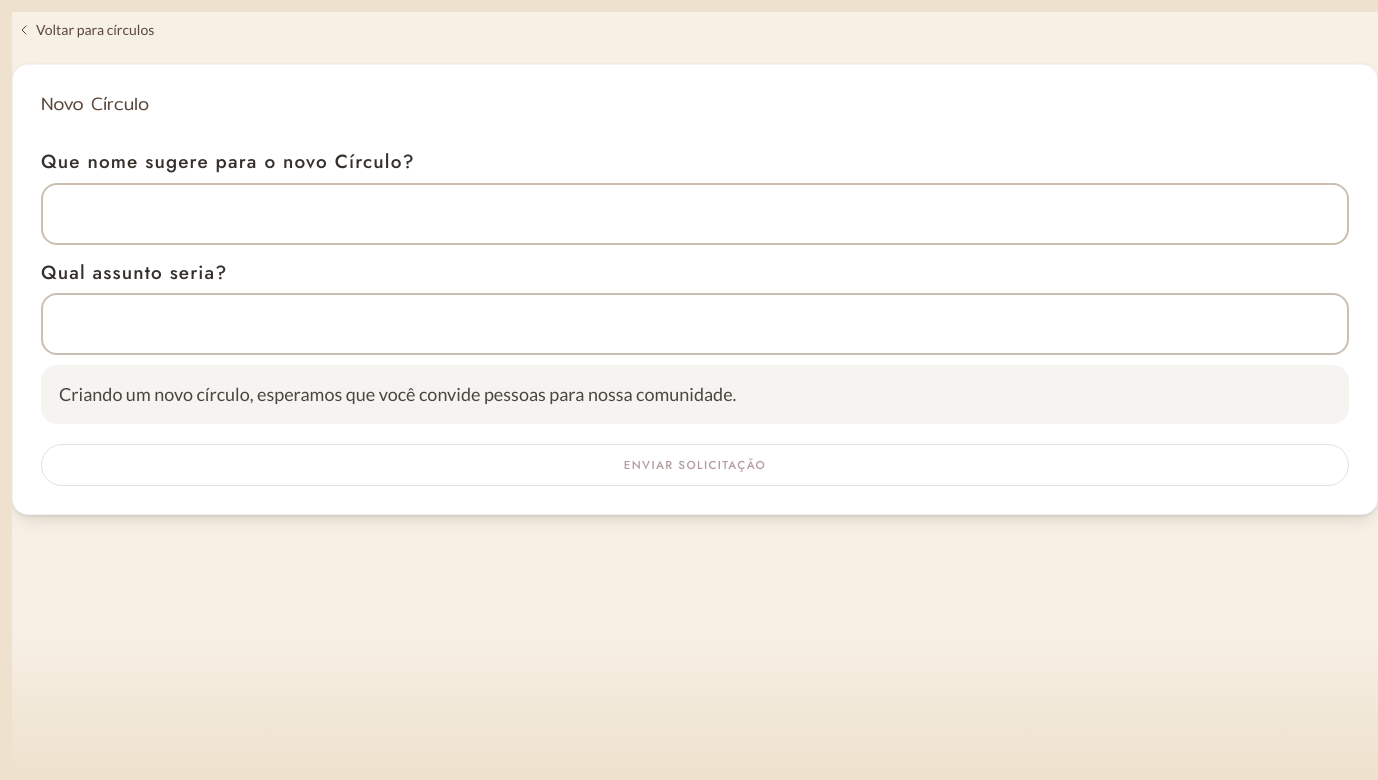
it: CircleRequestForm › mostra o erro do servidor sem travar o formulário
The image size is (1378, 780).
In the field labelled "Que nome sugere para o novo Círculo?": (695, 214) top-left (41, 182), bottom-right (1349, 244), type "Clube do livro"
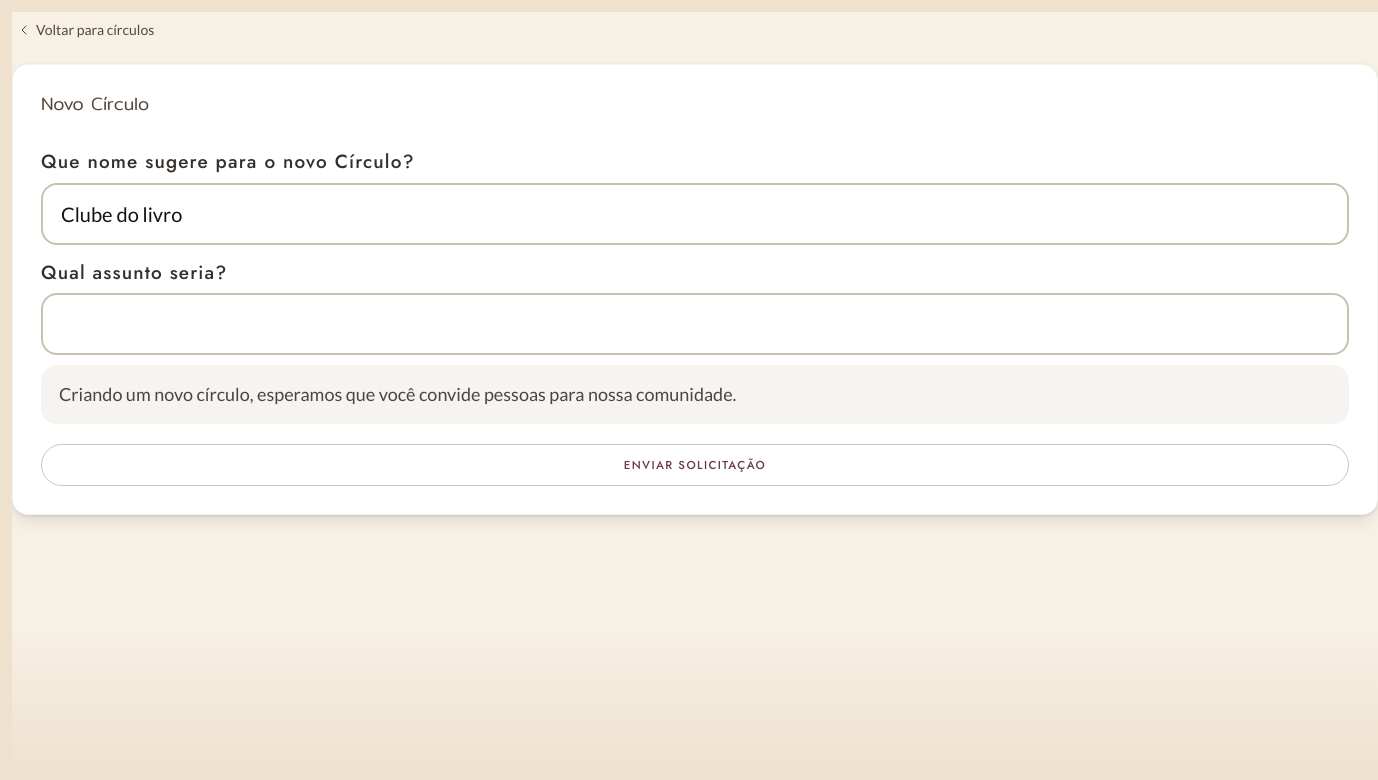
Click the button "Enviar solicitação": click(695, 465) top-left (41, 444), bottom-right (1349, 486)
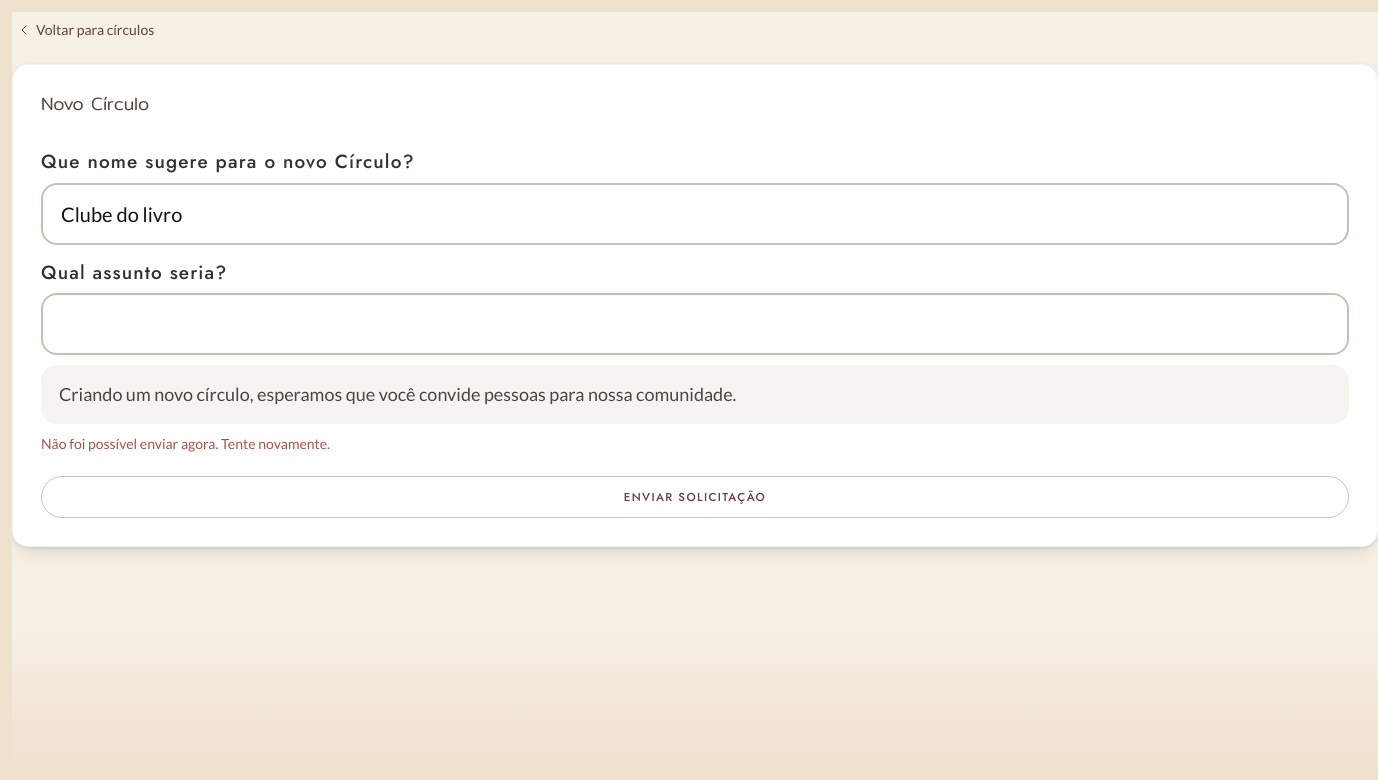
expect the text "Não foi possível enviar agora. Tente novamente." is shown: met, box top-left (41, 435), bottom-right (330, 452)
